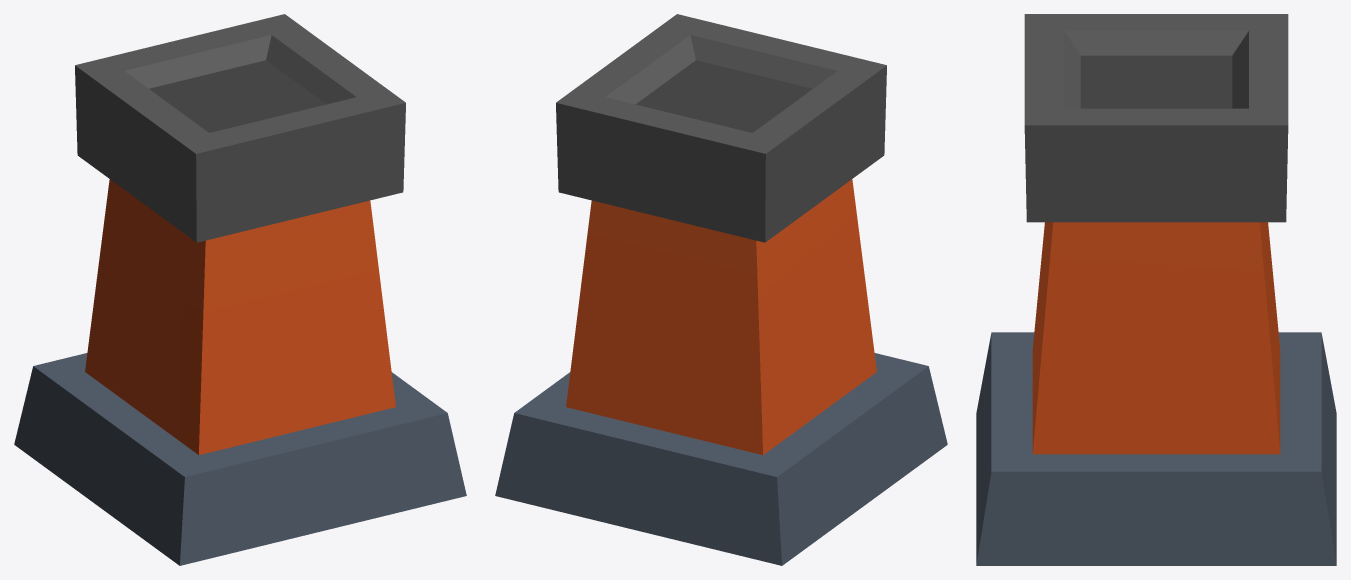
File: Chimney_3_B_2.fbx
The picture shows the model from 3 angles, left to right: view 1: azimuth 30°, elevation 25°; view 2: azimuth 150°, elevation 25°; view 3: azimuth 270°, elevation 25°; orthographic projection. The views are drawn at different scales.
Visible parts, largest first — view 1: Chimney_3_B_2; view 2: Chimney_3_B_2; view 3: Chimney_3_B_2.
Part boxes in pixels (x1,y1,x2,y2): Chimney_3_B_2: [14, 14, 466, 565]; Chimney_3_B_2: [495, 14, 947, 565]; Chimney_3_B_2: [976, 14, 1336, 565].
Bounding box in the file's own units: 63.94 × 82.23 × 63.94.
